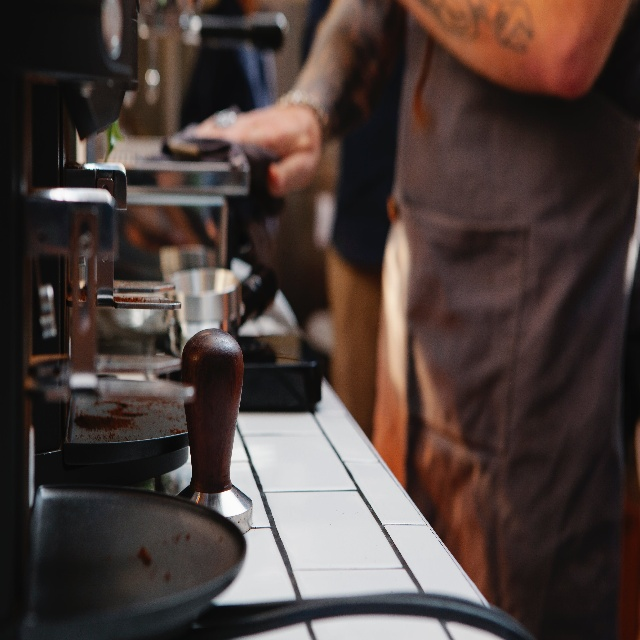Sin_guantes: (196, 103, 322, 195)
